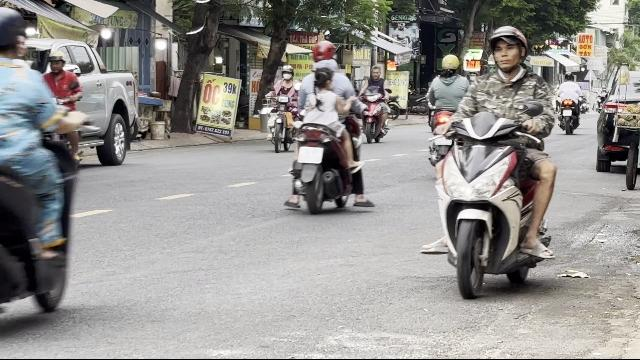helmet: (486, 26, 530, 74), (310, 39, 338, 64), (46, 48, 66, 72), (440, 54, 460, 76)
licenseplate: (298, 146, 322, 162)
motorcyclist: (417, 22, 563, 298), (286, 40, 368, 214)
nohelmet: (310, 65, 338, 91)
